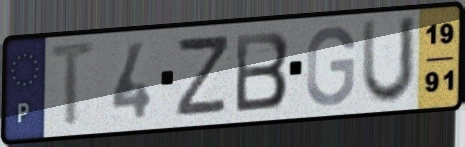4: (108, 38, 154, 123)
B: (233, 29, 292, 116)
G: (303, 23, 358, 109)
T: (46, 39, 101, 132)
U: (358, 13, 420, 108)
Z: (172, 31, 234, 119)
